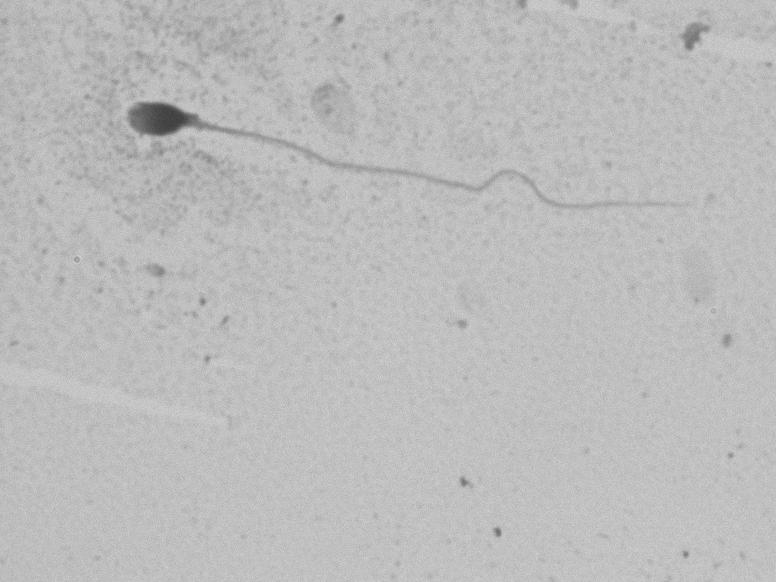Normal: (100, 71, 721, 273)
